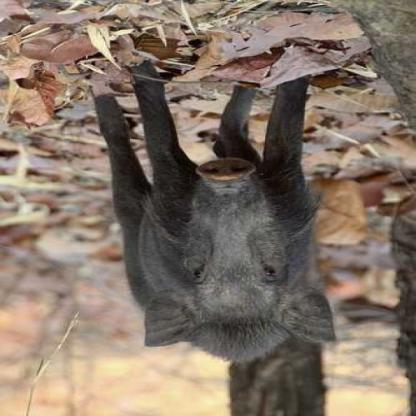boar: (60, 57, 347, 367)
